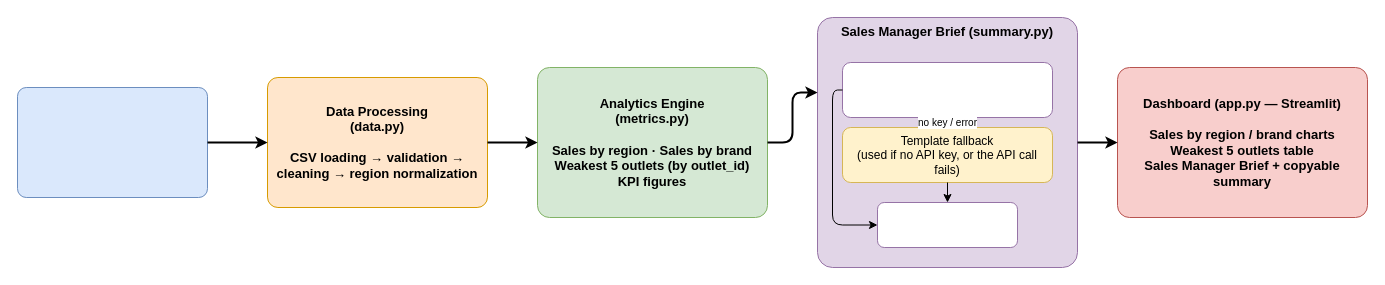
The diagram is 1385 pixels wide and 285 high, and some of its shapes have lost their labels. Each missing label, with the centre of its shape:
Data Source sales.csv (1,891 records): pixel 112 142
Final summary text: pixel 947 225
OpenAI API AI-generated summary: pixel 947 90
